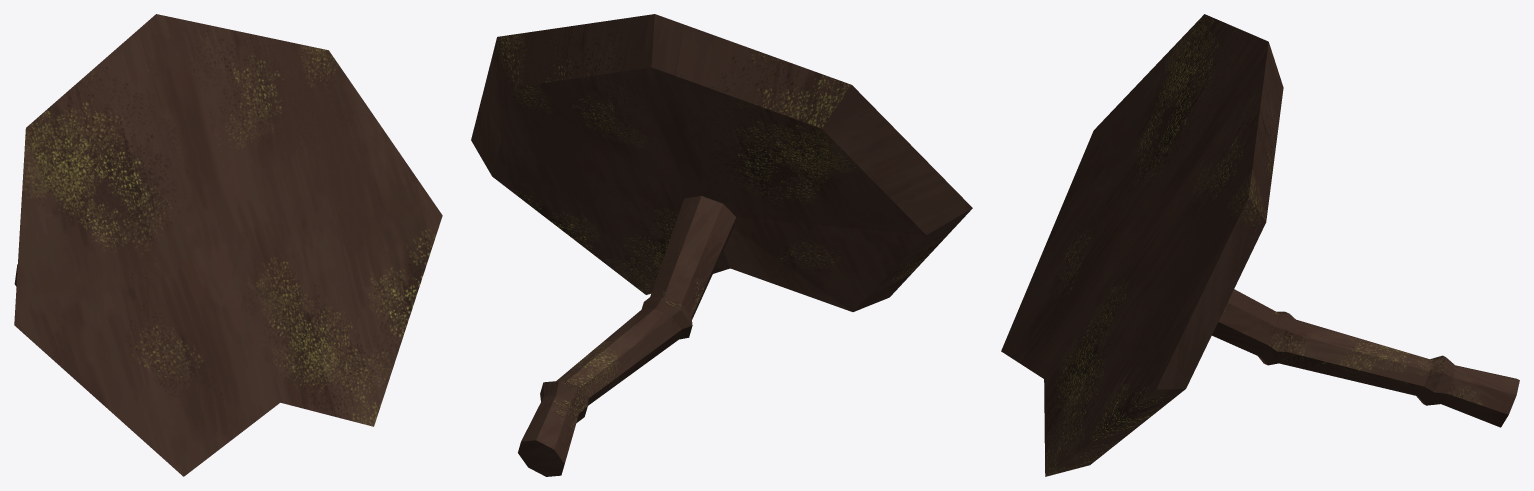
Rendered from Table05.fbx.
3 views of the same model, side by side, from view 1: azimuth 30°, elevation 25°; view 2: azimuth 150°, elevation 25°; view 3: azimuth 270°, elevation 25° (orthographic). The views are drawn at different scales.
Visible parts, largest first — view 1: RicotyTable; view 2: RicotyTable; view 3: RicotyTable.
Part boxes in pixels (box(x1,y1,x2,y2)): RicotyTable: box(14, 14, 442, 476); RicotyTable: box(471, 14, 972, 476); RicotyTable: box(1001, 14, 1519, 476).
Bounding box in the file's own units: 0.7569 × 0.5828 × 0.7091.
1 material, 1 textured.
